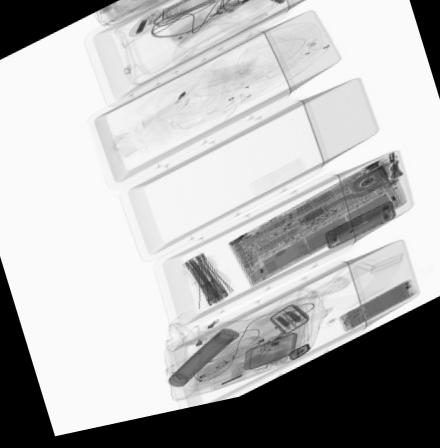Scissors: (283, 321, 305, 339)
